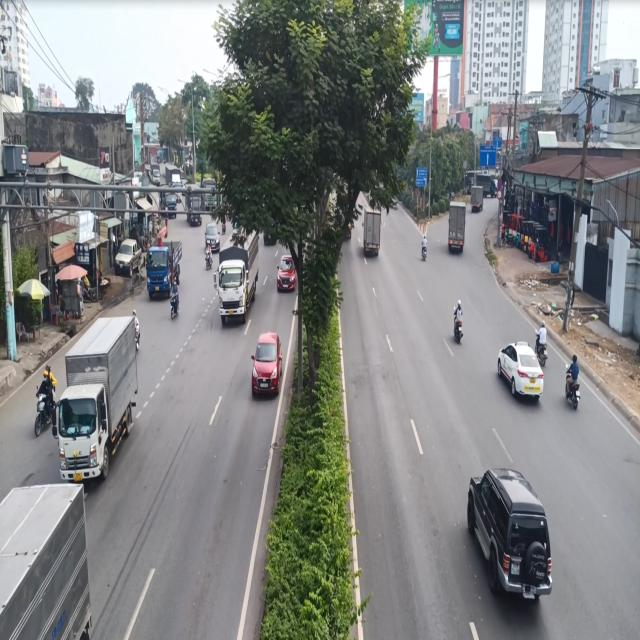car: (465, 455, 555, 608), (495, 336, 547, 411), (249, 325, 284, 405), (277, 247, 293, 298)
motor: (33, 366, 58, 438), (563, 346, 584, 419), (452, 295, 468, 350)
truck: (57, 315, 144, 494), (216, 228, 260, 338), (146, 225, 184, 299), (447, 194, 469, 263), (362, 204, 385, 262)
